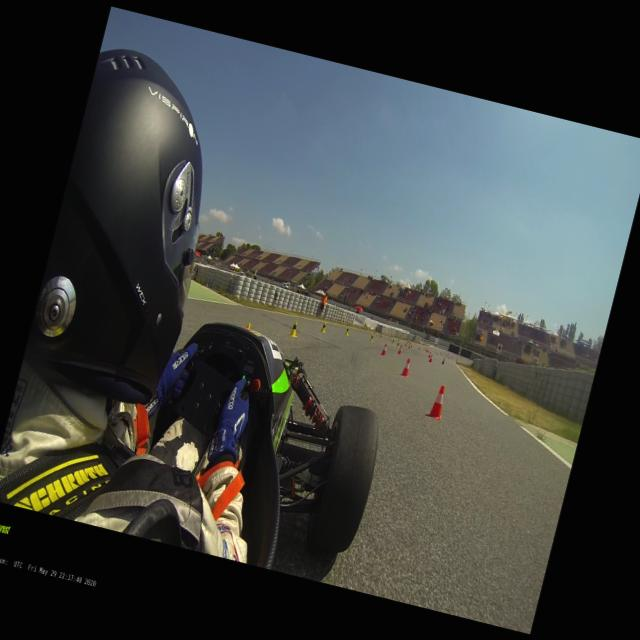orange_cone: (426, 384, 448, 421), (401, 357, 412, 377), (380, 343, 388, 356), (398, 344, 402, 354), (428, 354, 432, 362), (428, 352, 431, 357), (442, 358, 444, 363)
yellow_cone: (288, 320, 298, 338), (320, 321, 327, 332), (344, 326, 350, 335), (369, 334, 374, 342), (372, 330, 376, 336), (247, 322, 250, 329), (396, 341, 399, 347), (379, 334, 382, 339), (378, 332, 381, 337), (388, 336, 391, 340), (392, 339, 394, 344), (398, 338, 400, 342)
